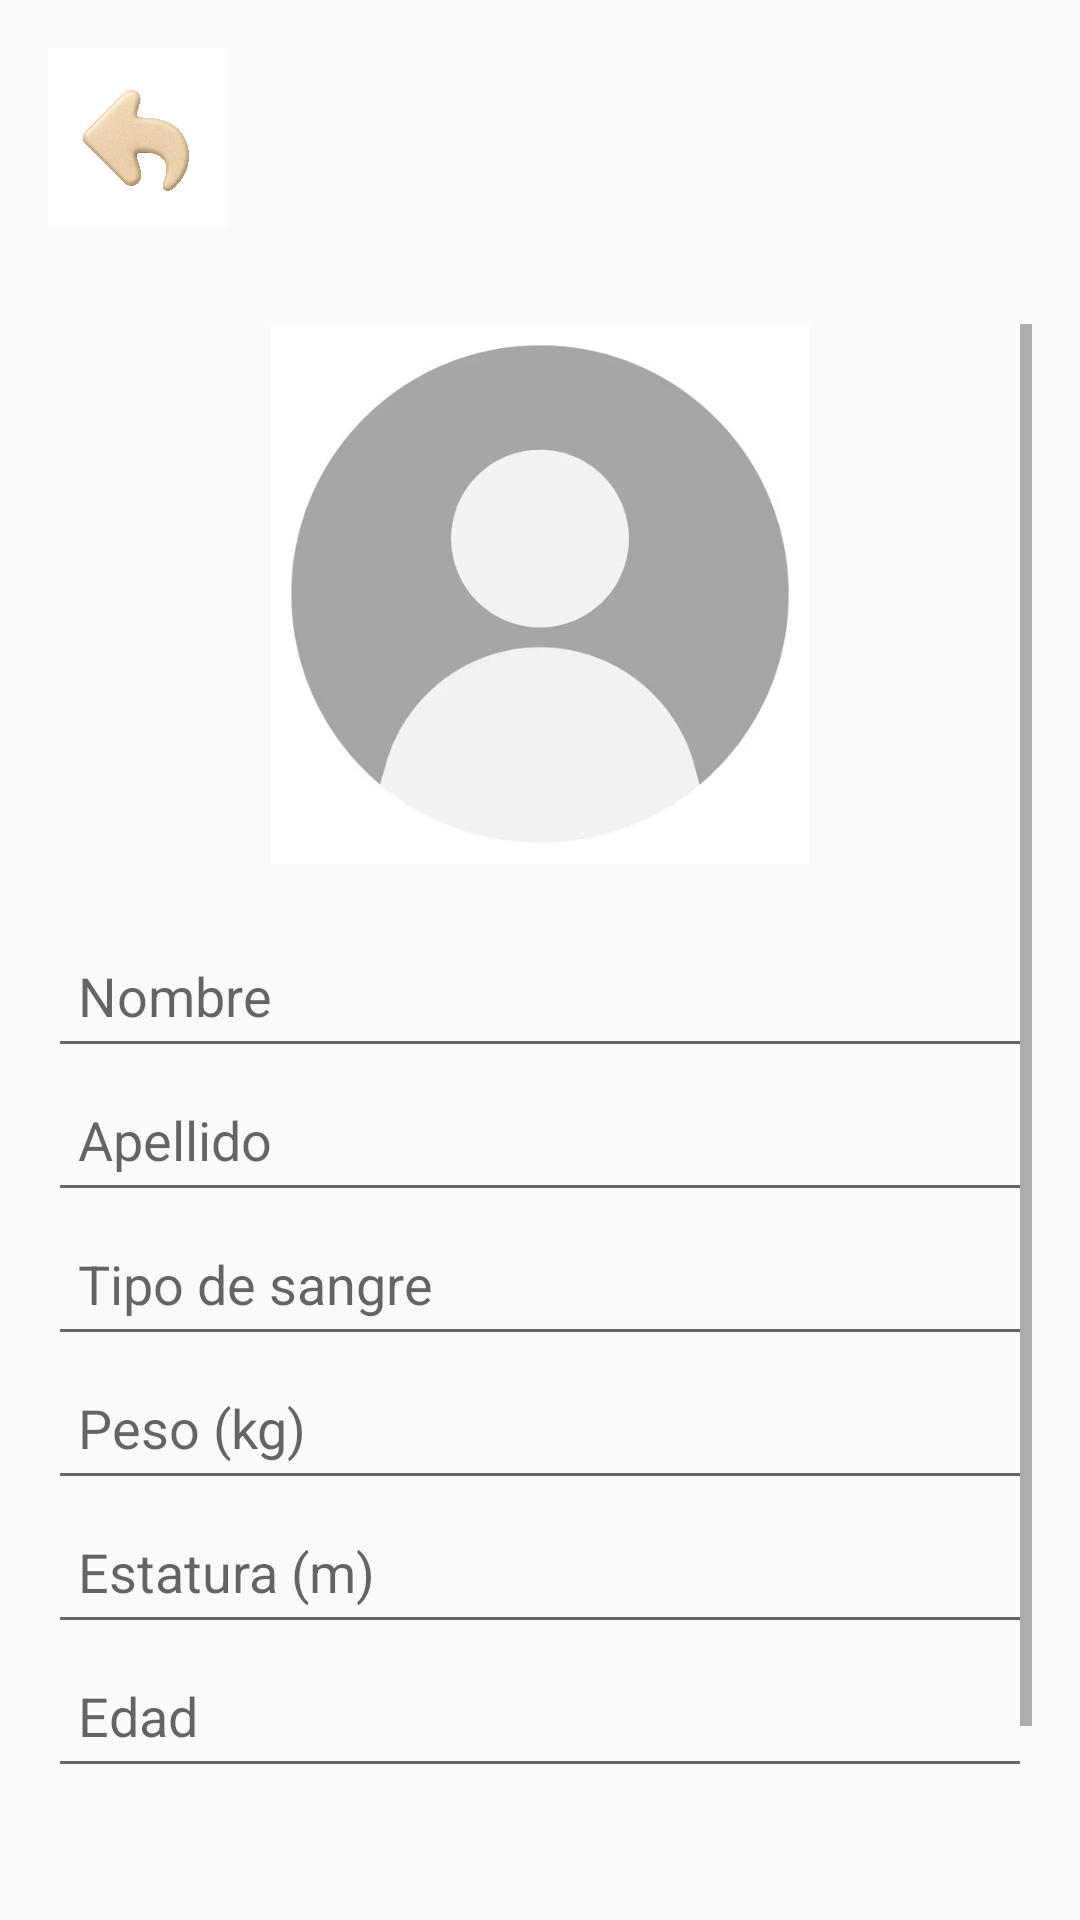

Screen size 1080px×1920px. Icon name, then its center in pixels as (x,y):
Volver: (136,140)
